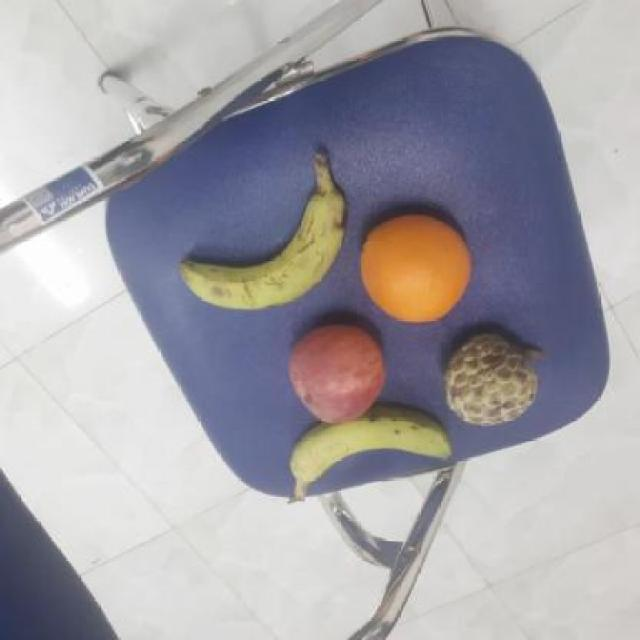apple: (278, 318, 389, 425)
banana: (176, 188, 352, 315), (282, 408, 452, 499)
oren: (358, 210, 472, 324)
sugar apple: (438, 327, 544, 425)
